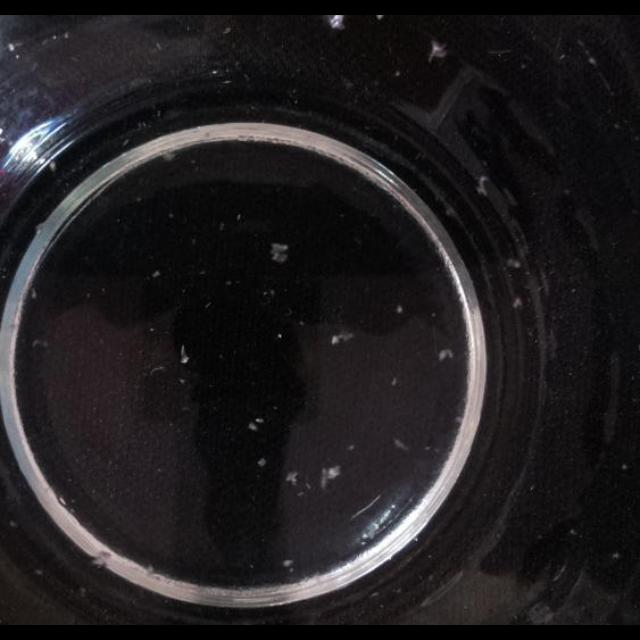Fibre: (471, 170, 524, 244), (321, 466, 343, 490), (331, 330, 355, 346), (476, 177, 492, 197), (285, 471, 299, 485)
microbeads: (269, 242, 289, 264), (257, 457, 267, 467), (248, 421, 258, 431), (58, 496, 68, 506), (282, 560, 294, 568), (390, 376, 398, 386), (218, 221, 226, 231), (178, 377, 186, 385), (347, 444, 355, 452), (396, 306, 404, 314), (152, 270, 160, 278), (570, 528, 578, 536), (394, 70, 402, 78), (613, 552, 621, 560), (254, 418, 264, 424), (236, 212, 242, 222), (298, 319, 306, 326), (622, 464, 628, 472), (225, 280, 232, 286), (276, 332, 282, 338)
